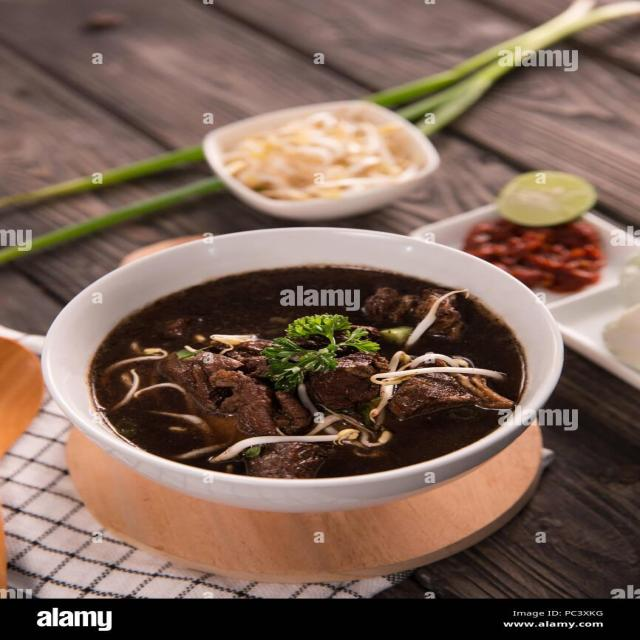Rawon: (110, 263, 510, 471)
